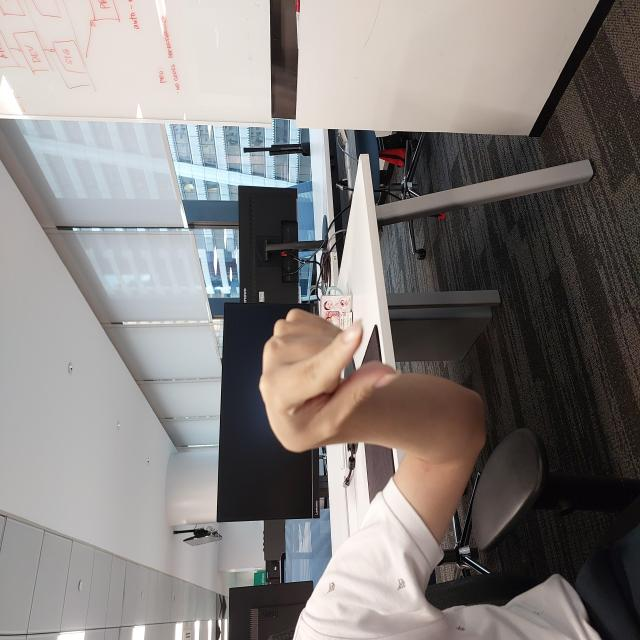Z: (188, 259, 337, 397)
